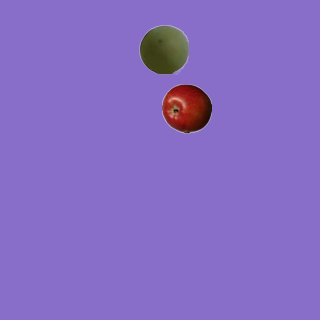Apple Braeburn: (161, 83, 211, 133)
Grape White 4: (138, 24, 188, 74)
